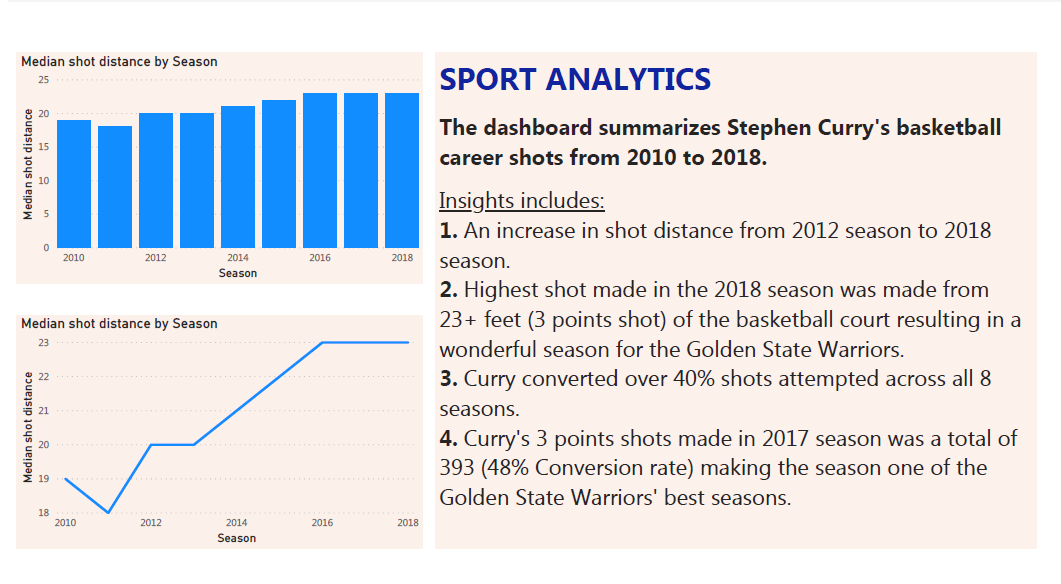

What the dashboard file says about the page in this screenshot:
{"tool":"powerbi","page":{"name":"Page 3","canvas":[1280,720],"ordinal":2},"visuals":[{"type":"clusteredColumnChart","fields":{"Category":["CurryShots.Season"],"Y":["CurryShots.Median shot distance"]},"box":[10.1,49.1,493.5,279.9],"z":0},{"type":"lineChart","fields":{"Y":["CurryShots.Median shot distance"],"Category":["CurryShots.Season"]},"box":[10.1,367.9,493.5,282.8],"z":1000},{"type":"textbox","box":[518,49.1,730.1,601.7],"z":2000}]}

Visuals, with their boxes in screenshot pixels (x1, y1, x2, y2), scaled from the page's 1280x720 canvas onto the 1061x584 screenshot:
clusteredColumnChart - CurryShots.Season x CurryShots.Median shot distance: 8/40/417/267
lineChart - CurryShots.Median shot distance x CurryShots.Season: 8/298/417/528
textbox: 429/40/1035/528
